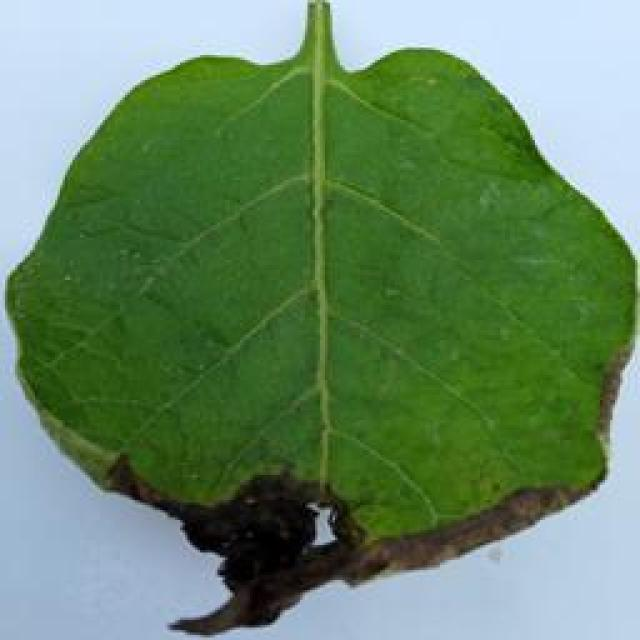Potato_Late_Blight: (8, 3, 624, 634)
